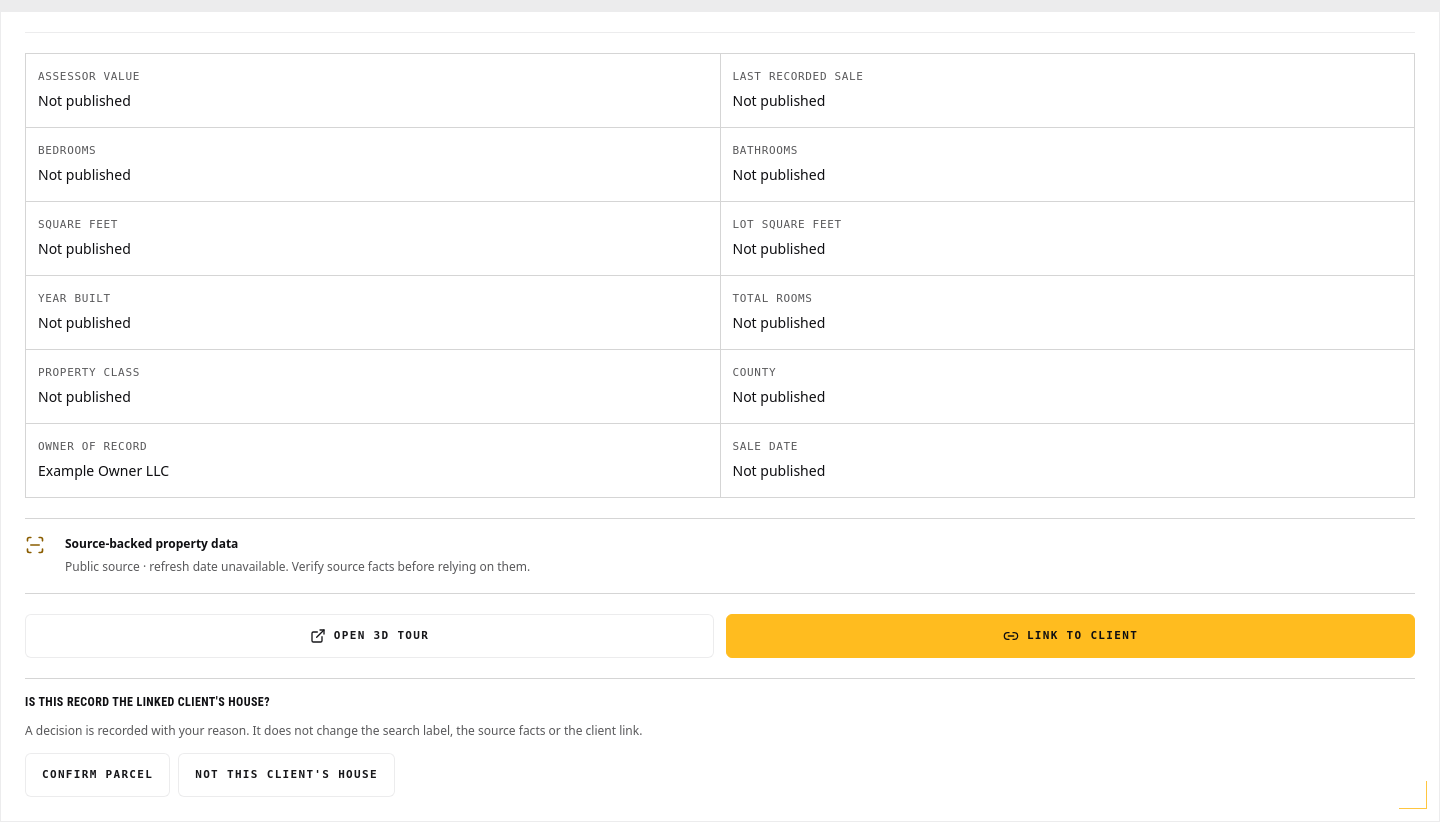
HouseWorkspace house decision form › keeps the previous badge and says why when someone else decided first
(page scrolled)
Click the button "Not this client's house" at (287, 775), box [178,753,395,797]
(page scrolled)
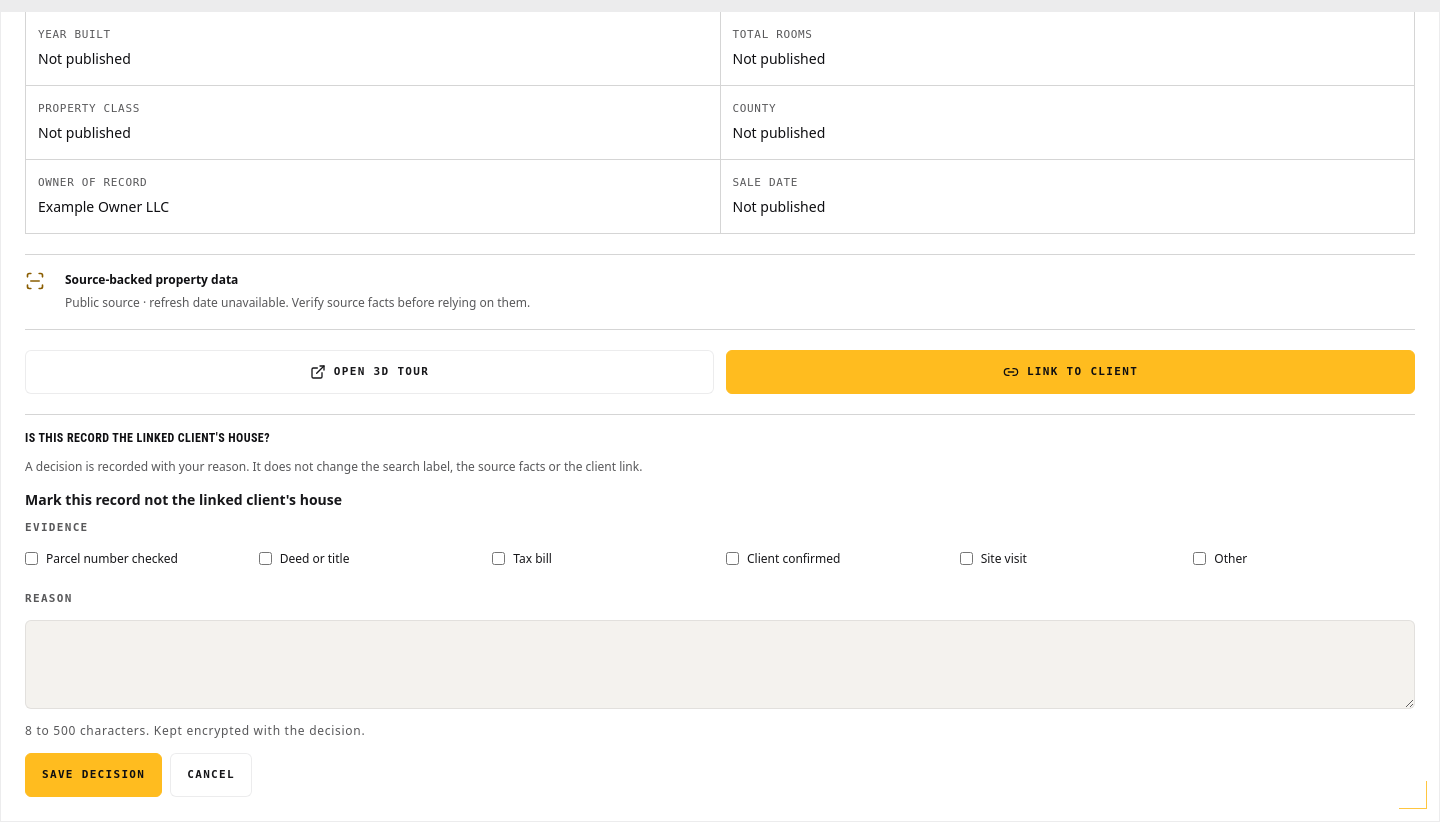
Type "Different owner on the deed" into the text box labelled "Reason" at (720, 664), box [25,620,1415,709]
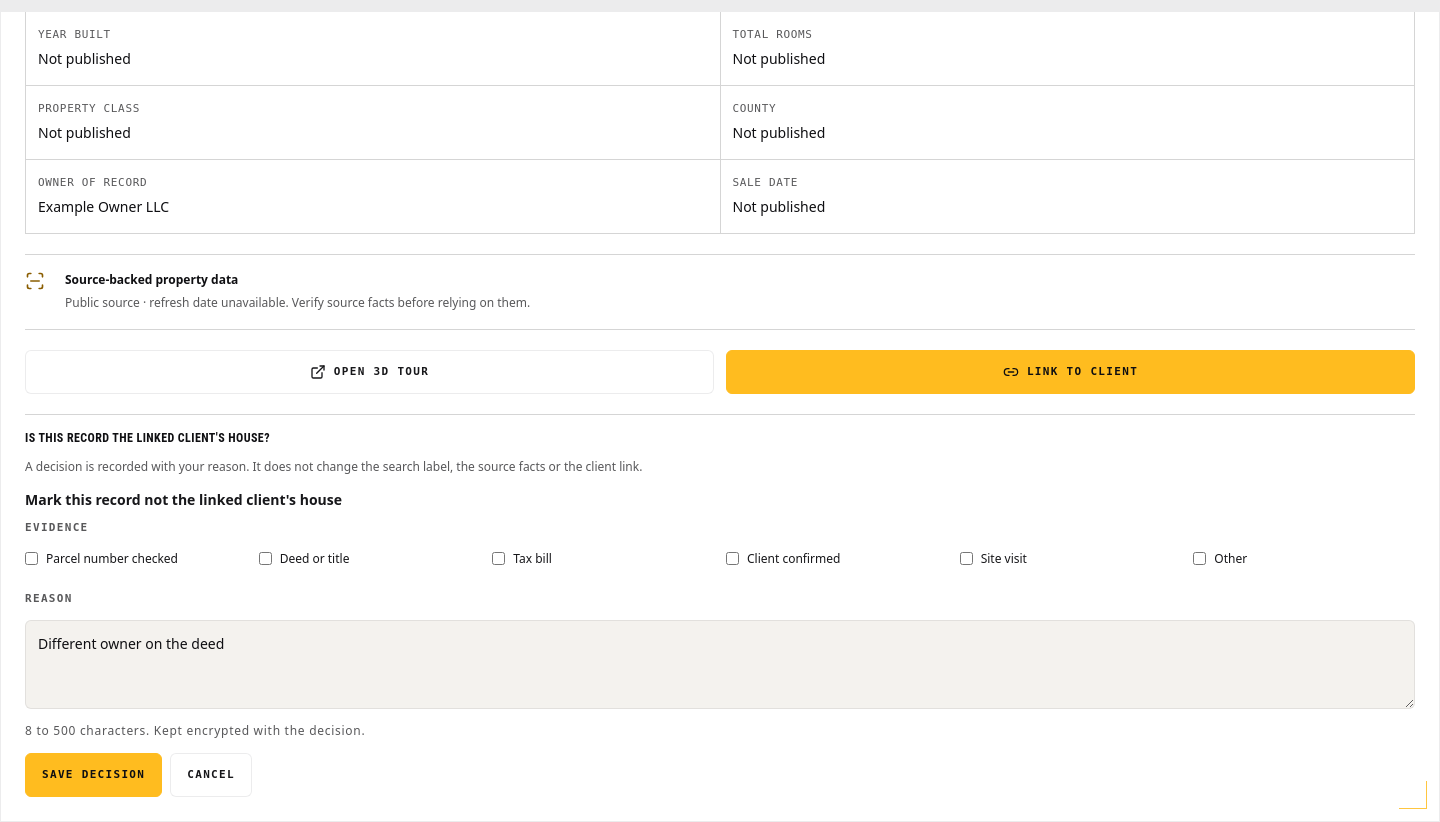
Click the button "Save decision" at (94, 775), box [25,753,162,797]
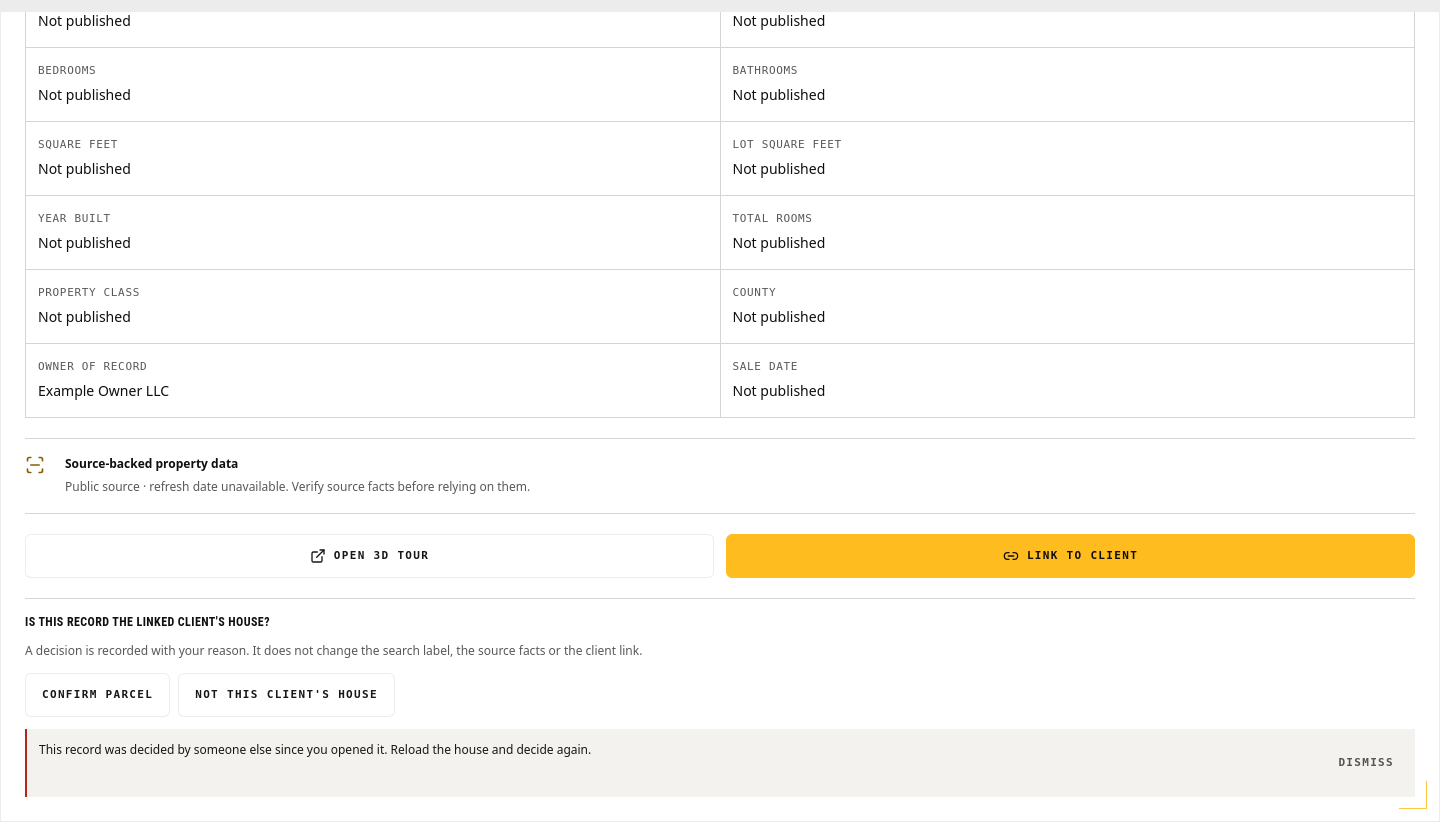
Note: The sentence stays until dismissed.
Click the button "Dismiss" at (1366, 763), box [1329,741,1403,785]
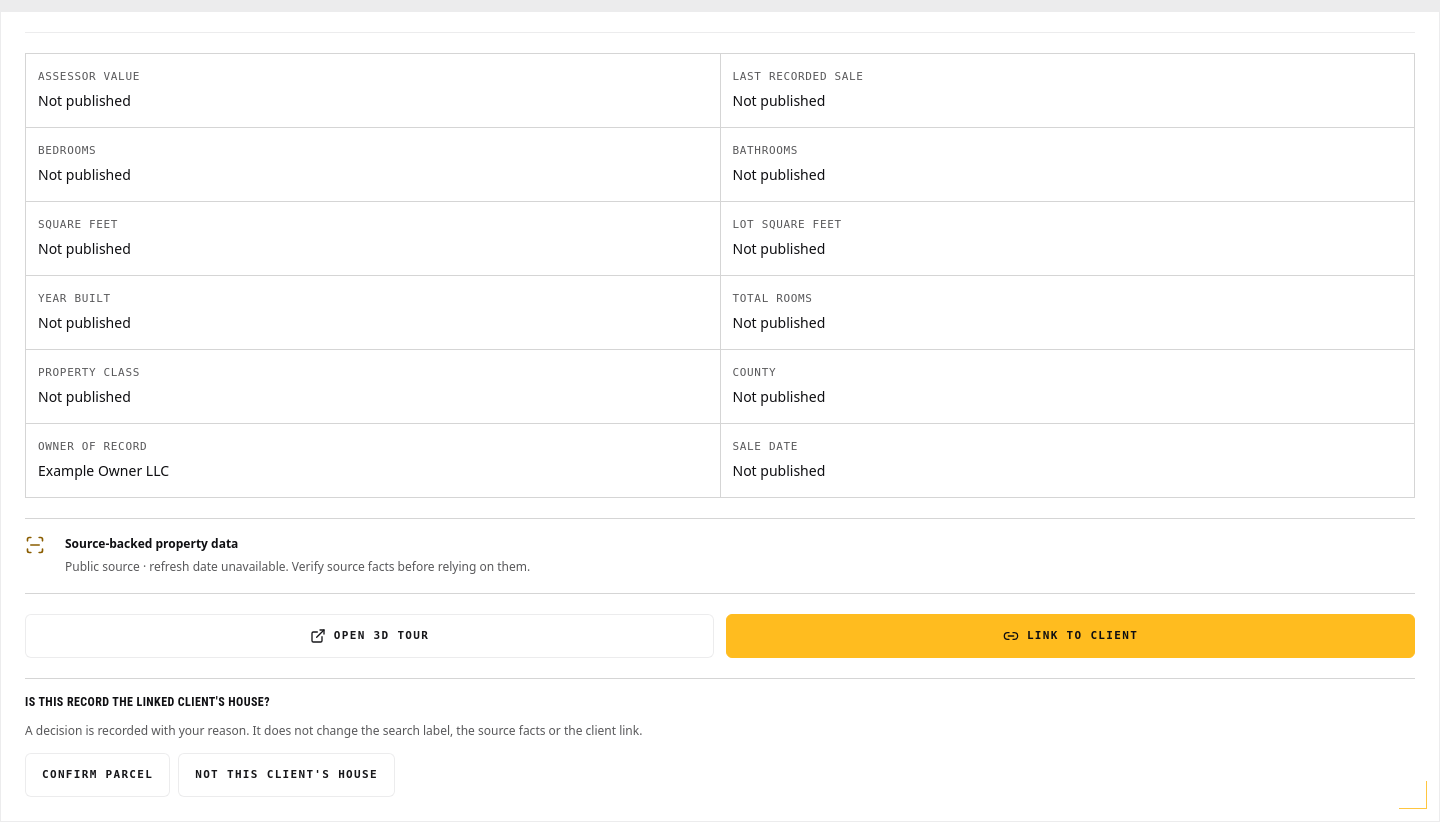
expect the message is gone: met
